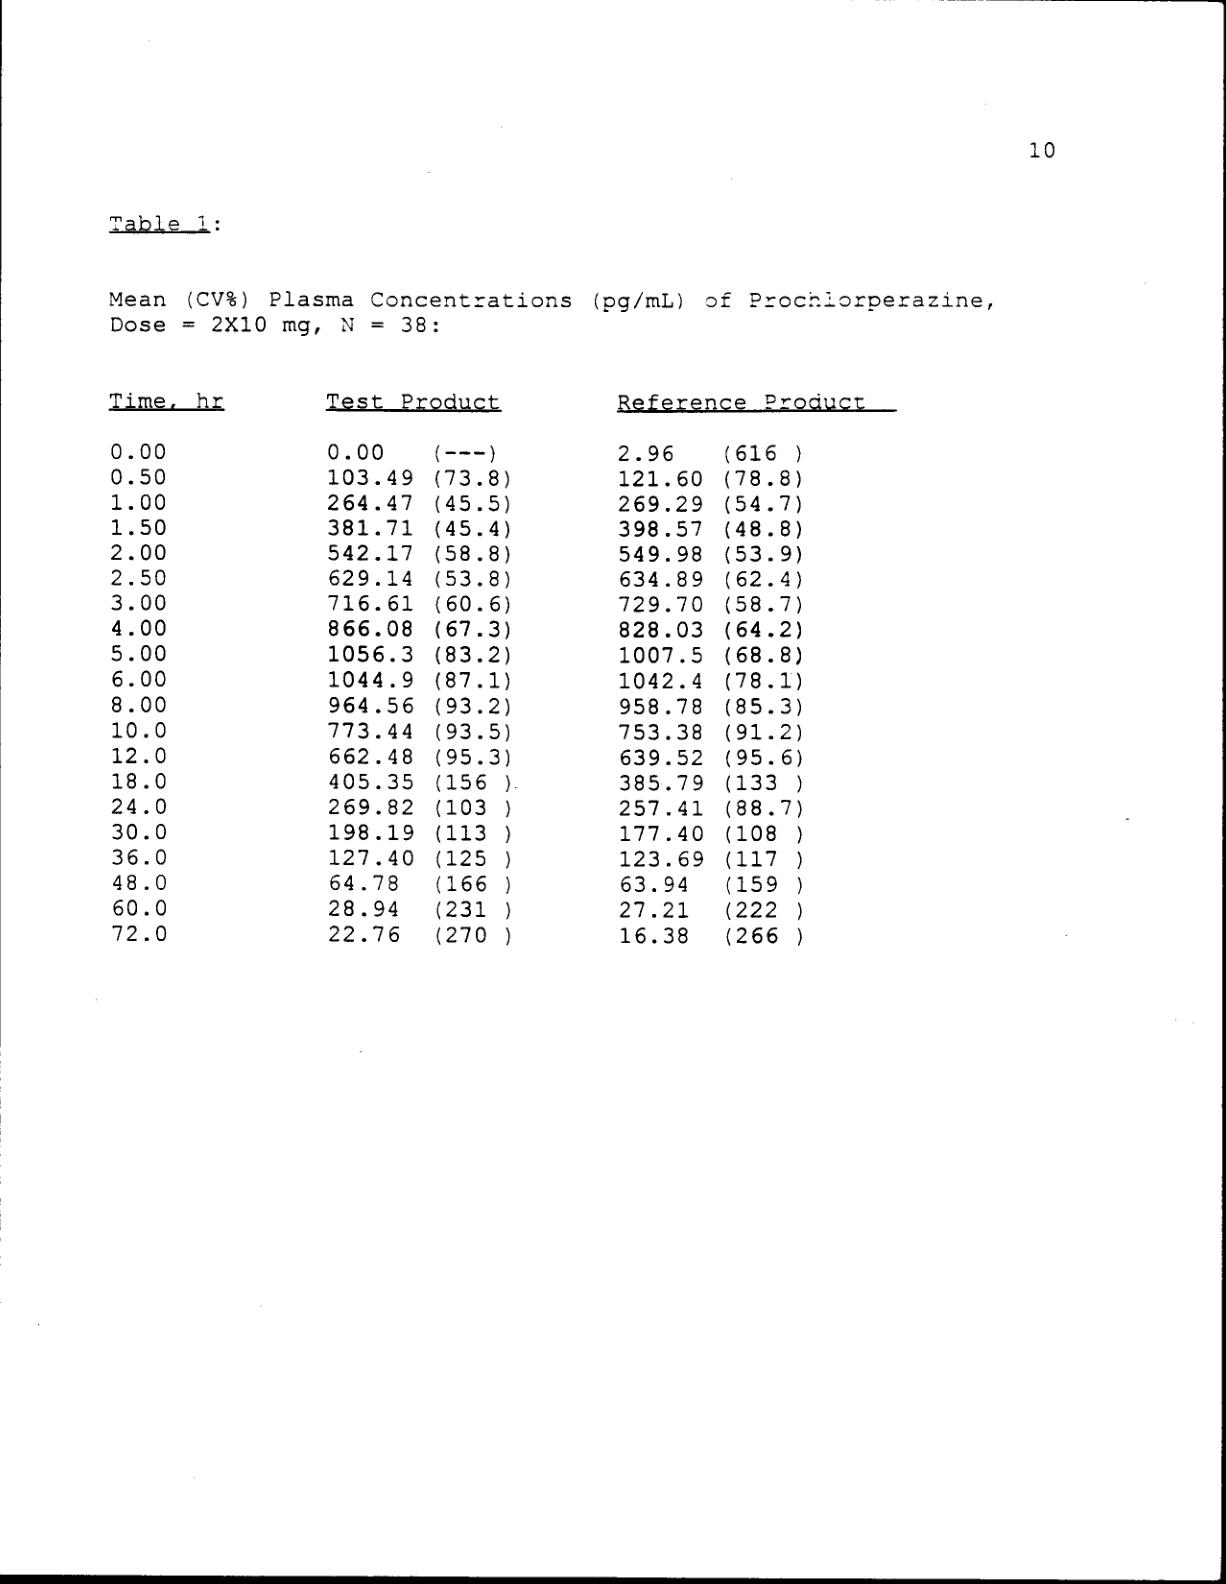nolines: (104, 390, 891, 948)
